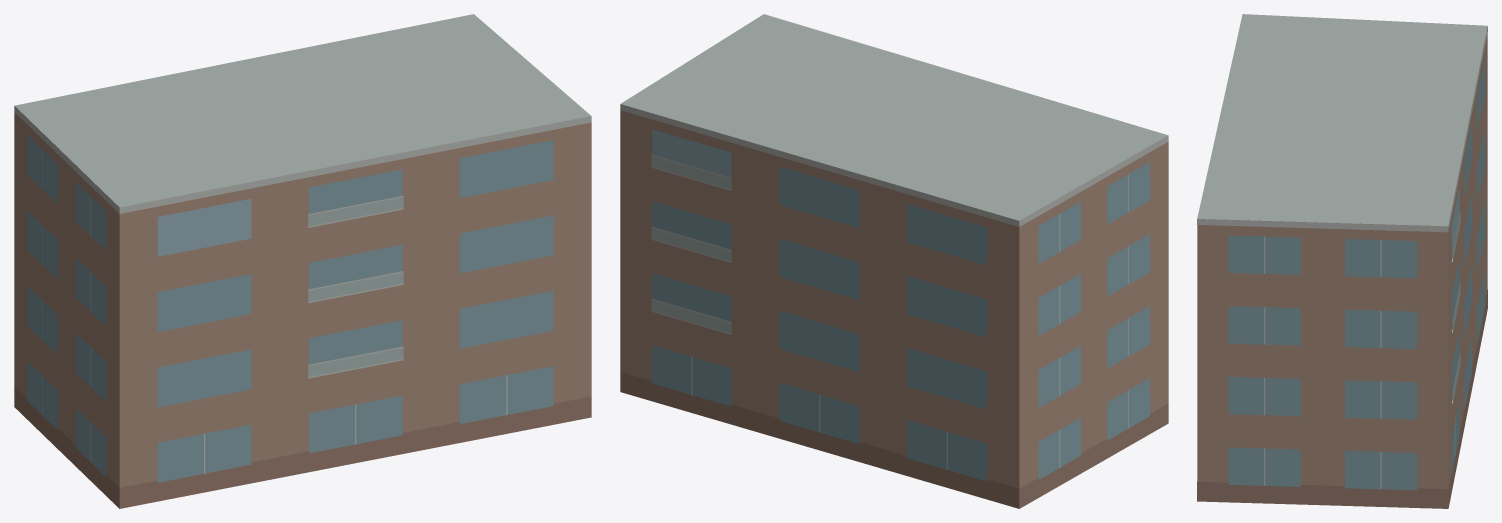
File: survey-upis-32750929.glb
3 views of the same model, side by side, from view 1: azimuth 30°, elevation 25°; view 2: azimuth 150°, elevation 25°; view 3: azimuth 270°, elevation 25° (orthographic). The views are drawn at different scales.
Parts seen in each view (by area): view 1: survey-upis-32750929.tmp; view 2: survey-upis-32750929.tmp; view 3: survey-upis-32750929.tmp.
Boxes of the visible parts, <box> form: survey-upis-32750929.tmp: <box>14,14,591,508</box>; survey-upis-32750929.tmp: <box>620,14,1168,508</box>; survey-upis-32750929.tmp: <box>1197,14,1487,508</box>.
Bounding box in the file's own units: 18.54 × 11.5 × 10.73.
